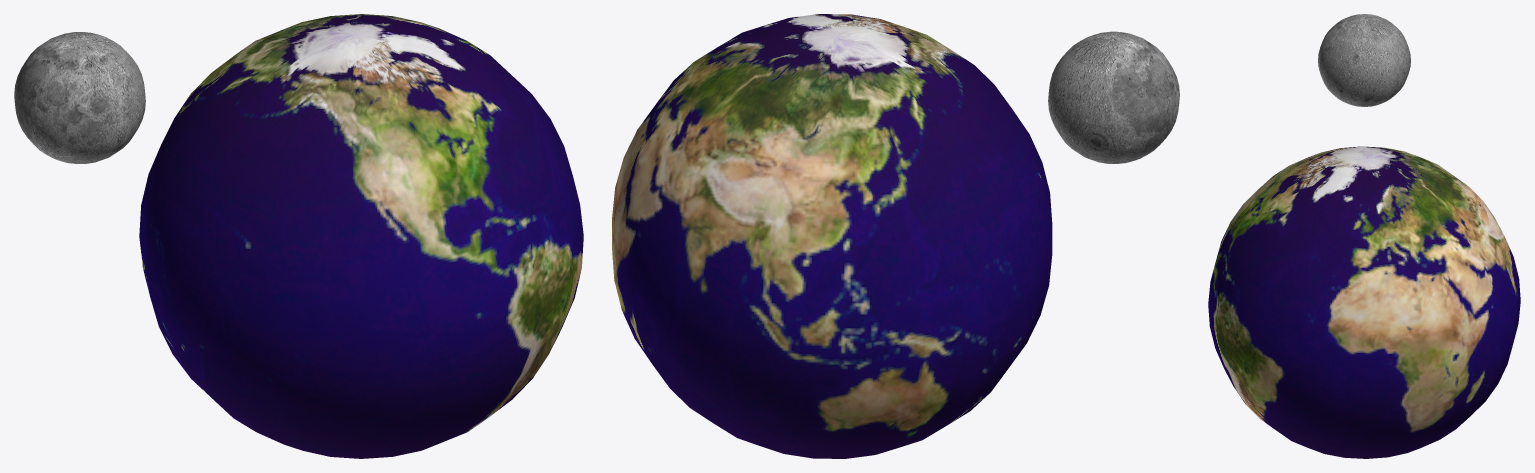
Rendered from PlanetEarthandtheMoon.glb.
3 renders of one model, left to right at view 1: azimuth 30°, elevation 25°; view 2: azimuth 150°, elevation 25°; view 3: azimuth 270°, elevation 25°, orthographic. The views are drawn at different scales.
Visible parts, largest first — view 1: pSphere1, pSphere2; view 2: pSphere1, pSphere2; view 3: pSphere1, pSphere2.
Part boxes in pixels (bbox=[...]): pSphere1: bbox=[139, 14, 583, 458]; pSphere2: bbox=[14, 32, 145, 163]; pSphere1: bbox=[612, 14, 1052, 458]; pSphere2: bbox=[1048, 31, 1179, 163]; pSphere1: bbox=[1208, 146, 1520, 458]; pSphere2: bbox=[1318, 14, 1410, 106].
Size of the model in its own units: 4.96 by 4.18 by 3.59.
Materials: 2 (2 with a texture image).
